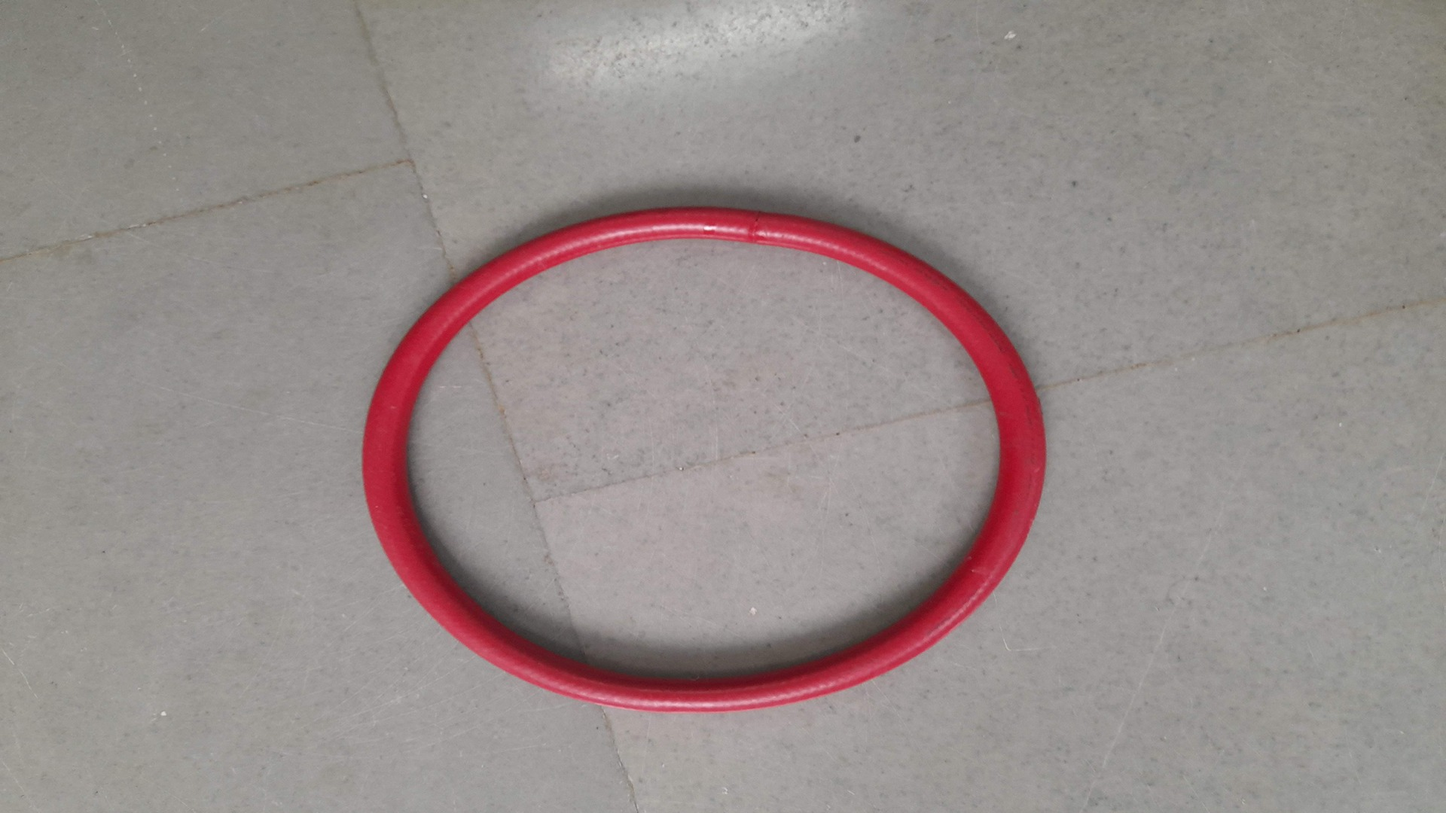Red ring: (365, 210, 1046, 712)
